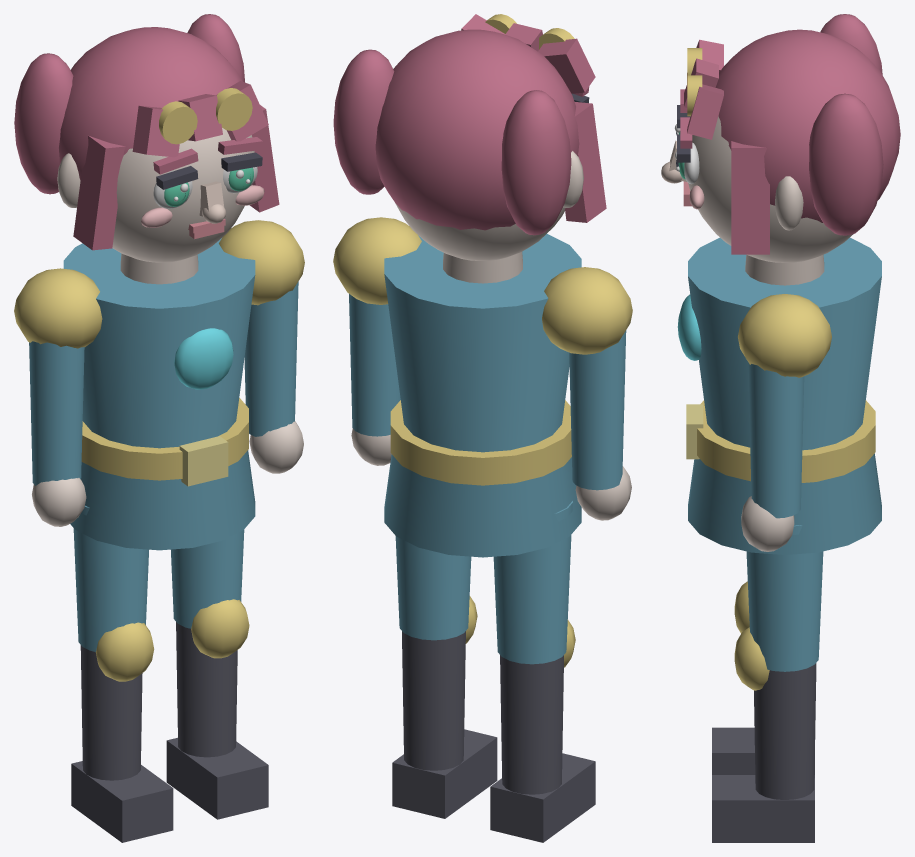
The model's file is human_engineer_female_hd.glb.
3 views of the same model, side by side, from view 1: azimuth 30°, elevation 25°; view 2: azimuth 150°, elevation 25°; view 3: azimuth 270°, elevation 25° (orthographic). The views are drawn at different scales.
Parts seen in each view (by area): view 1: human_engineer_female_hd; view 2: human_engineer_female_hd; view 3: human_engineer_female_hd.
Boxes of the visible parts, x1,y1,x2,y2 form: human_engineer_female_hd: (14, 14, 304, 842); human_engineer_female_hd: (333, 14, 632, 842); human_engineer_female_hd: (661, 14, 900, 842).
Size of the model in its own units: 0.76 by 1.98 by 0.5584.
